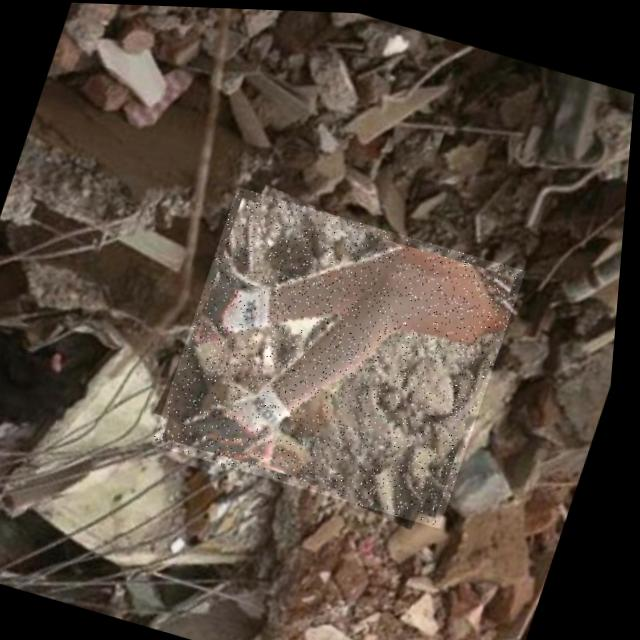Person in Rubble: (153, 182, 533, 526)
